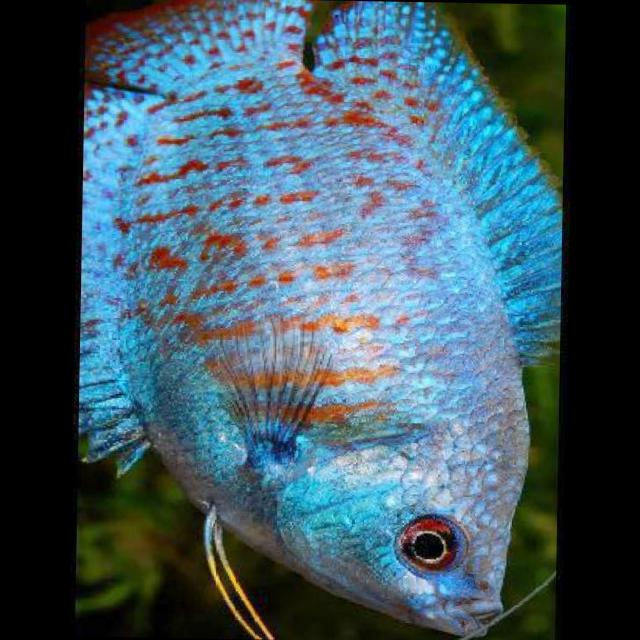Gourami: (71, 0, 566, 640)
